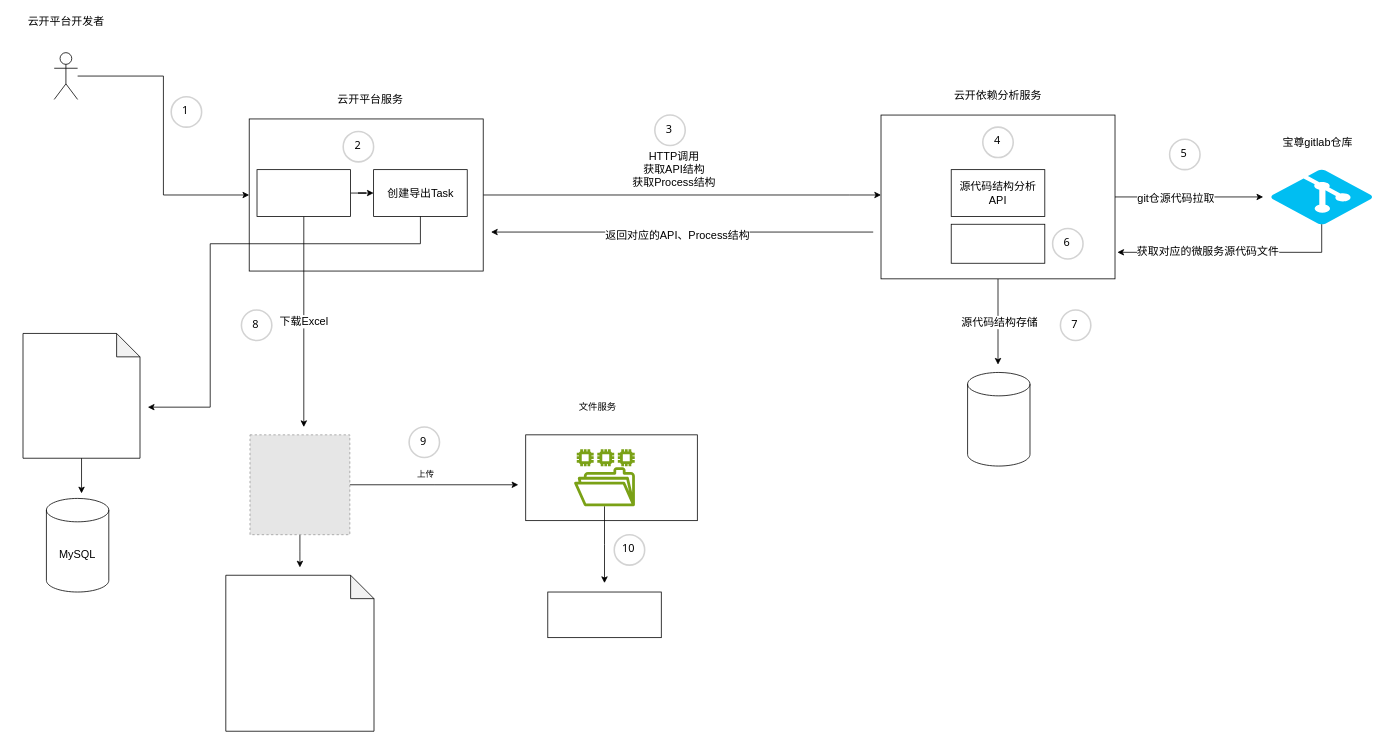
Image size: 1386x745. Some labels were removed from this diagram. Grey dashed boxes stand in for pictures. The centre of each missing label's shape, as x and y in pixels:
Actor: the point at 65,75
API导出: the point at 303,192
MongoDB: the point at 998,419
task结构{ ...... git project url git branch ...... }: the point at 81,395
下载微服务Excel结构: the point at 604,614
应用基本信息 模块 微服务信息 API信息 API请求体 API响应体 API依赖信息: the point at 299,652
源代码分析处理: the point at 997,243
